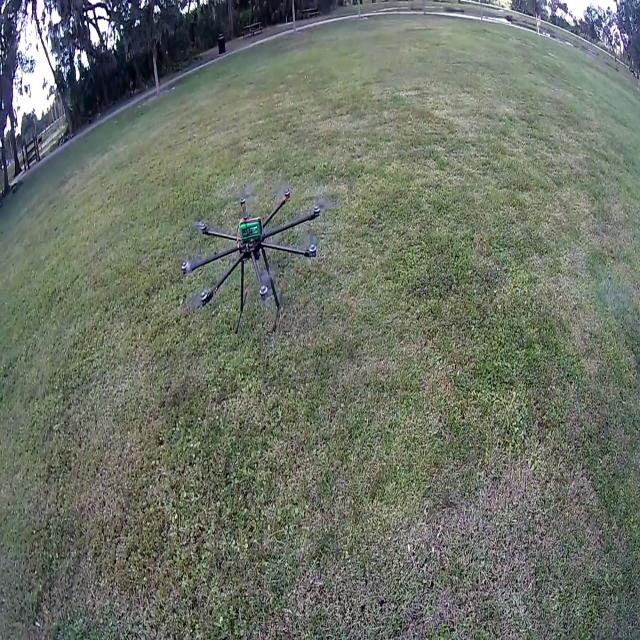drone: (170, 179, 330, 336)
